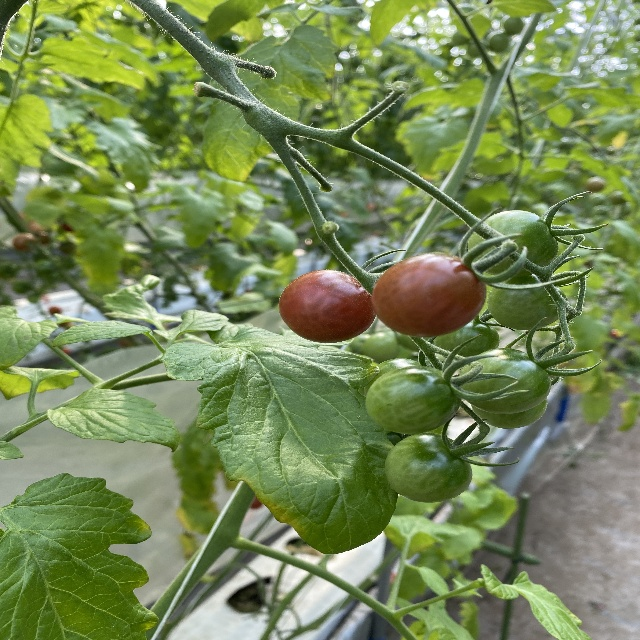l_fully_ripened: (278, 268, 377, 343)
l_green: (365, 365, 462, 436), (466, 209, 559, 278), (460, 346, 552, 414), (385, 433, 473, 503), (487, 272, 568, 331), (434, 318, 500, 364), (474, 396, 548, 430)
l_half_ripened: (372, 253, 486, 338)
